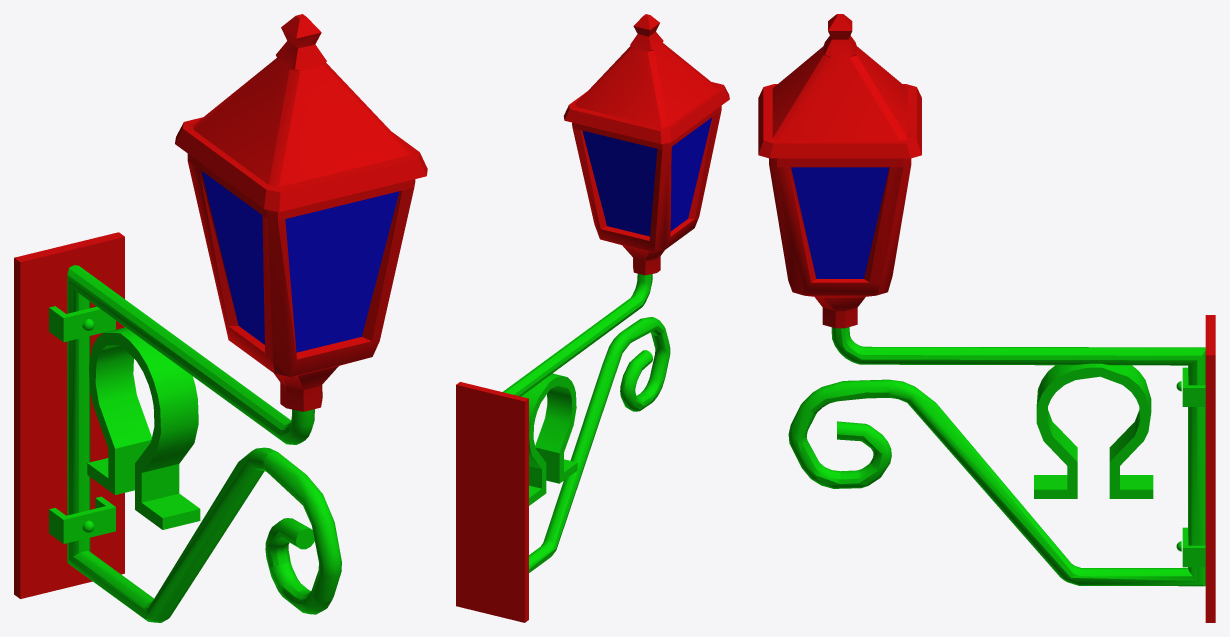
Rendered from WallLantern002.fbx.
3 views of the same model, side by side, from view 1: azimuth 30°, elevation 25°; view 2: azimuth 150°, elevation 25°; view 3: azimuth 270°, elevation 25° (orthographic). The views are drawn at different scales.
Parts seen in each view (by area): view 1: Line009; view 2: Line009; view 3: Line009.
Boxes of the visible parts, x1,y1,x2,y2 form: Line009: [14, 14, 427, 622]; Line009: [456, 14, 729, 622]; Line009: [758, 14, 1215, 622].
Size of the model in its own units: 43.88 by 189 by 134.
